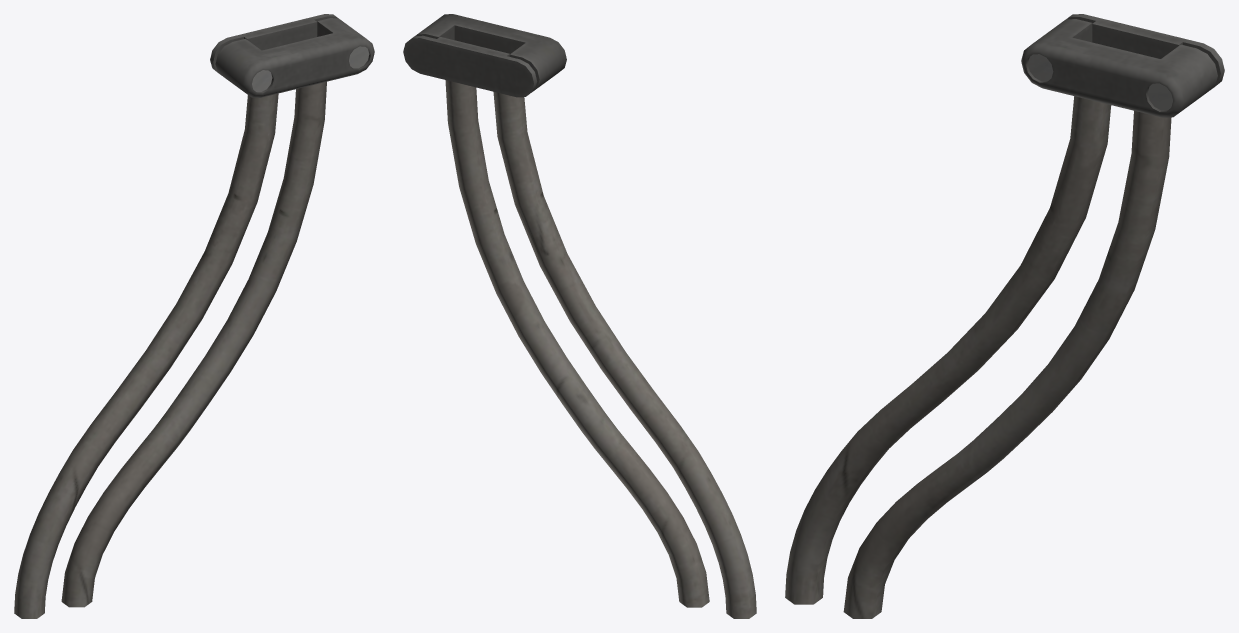
The model's file is cable_double_scurve.glb.
The picture shows the model from 3 angles, left to right: view 1: azimuth 30°, elevation 25°; view 2: azimuth 150°, elevation 25°; view 3: azimuth 330°, elevation 25°; orthographic projection. The views are drawn at different scales.
Parts seen in each view (by area): view 1: cable_double_scurve.001; view 2: cable_double_scurve.001; view 3: cable_double_scurve.001.
Boxes of the visible parts, x1,y1,x2,y2 form: cable_double_scurve.001: [14, 14, 374, 618]; cable_double_scurve.001: [403, 14, 756, 618]; cable_double_scurve.001: [785, 14, 1224, 618].
Bounding box in the file's own units: 0.1427 × 0.2073 × 0.0259.
Materials: 1 (1 with a texture image).
